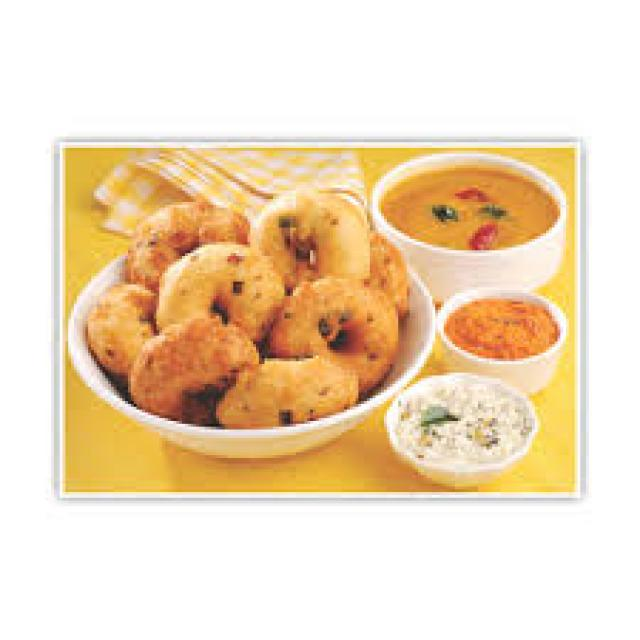MEDU VADA: (270, 279, 395, 390), (131, 313, 256, 418), (159, 242, 282, 338), (250, 191, 367, 279), (128, 202, 247, 287), (219, 358, 356, 424), (88, 282, 154, 375)
